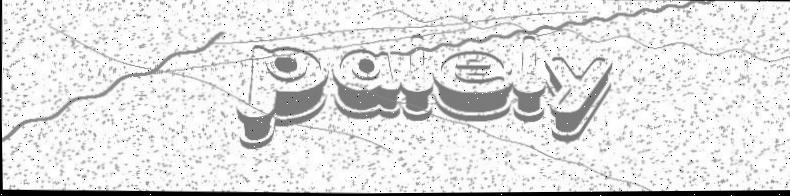a: (329, 44, 404, 121)
e: (433, 47, 513, 121)
l: (510, 35, 549, 124), (400, 31, 437, 122)
p: (232, 39, 331, 151)
y: (541, 53, 616, 143)
